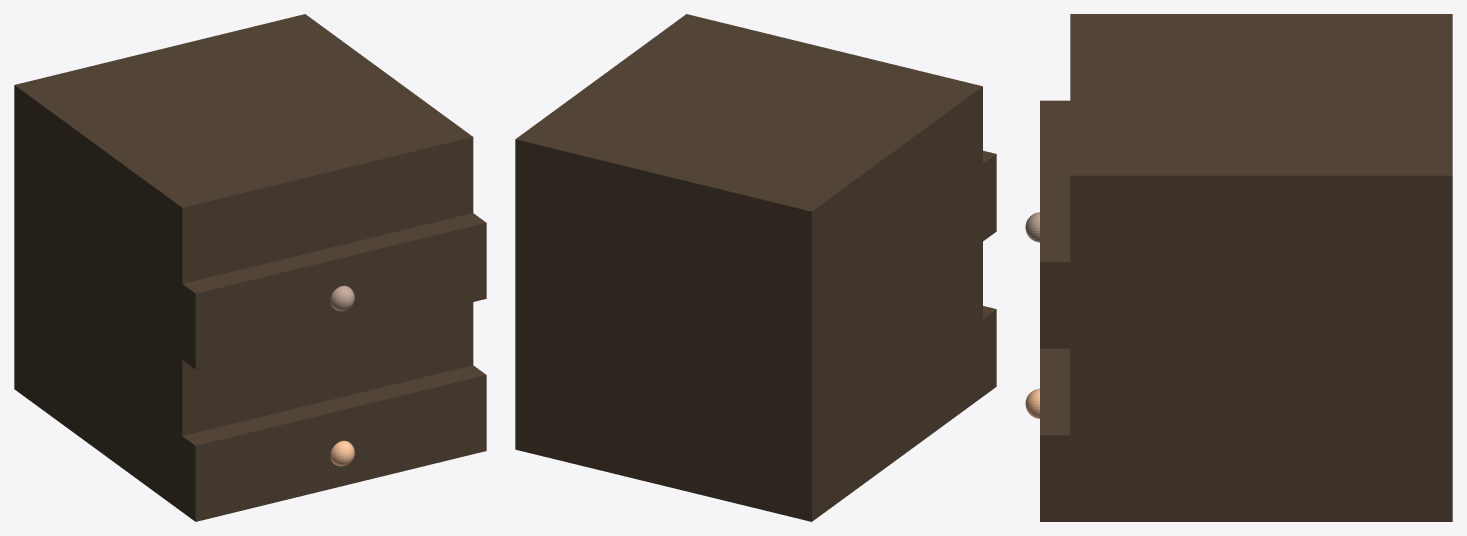
The model's file is Container.fbx.
The picture shows the model from 3 angles, left to right: view 1: azimuth 30°, elevation 25°; view 2: azimuth 150°, elevation 25°; view 3: azimuth 270°, elevation 25°; orthographic projection. The views are drawn at different scales.
Visible parts, largest first — view 1: Cube; view 2: Cube; view 3: Cube.
Boxes of the visible parts, x1,y1,x2,y2 form: Cube: [14, 14, 486, 521]; Cube: [515, 14, 996, 521]; Cube: [1040, 14, 1452, 521].
Bounding box in the file's own units: 200 × 200 × 223.
